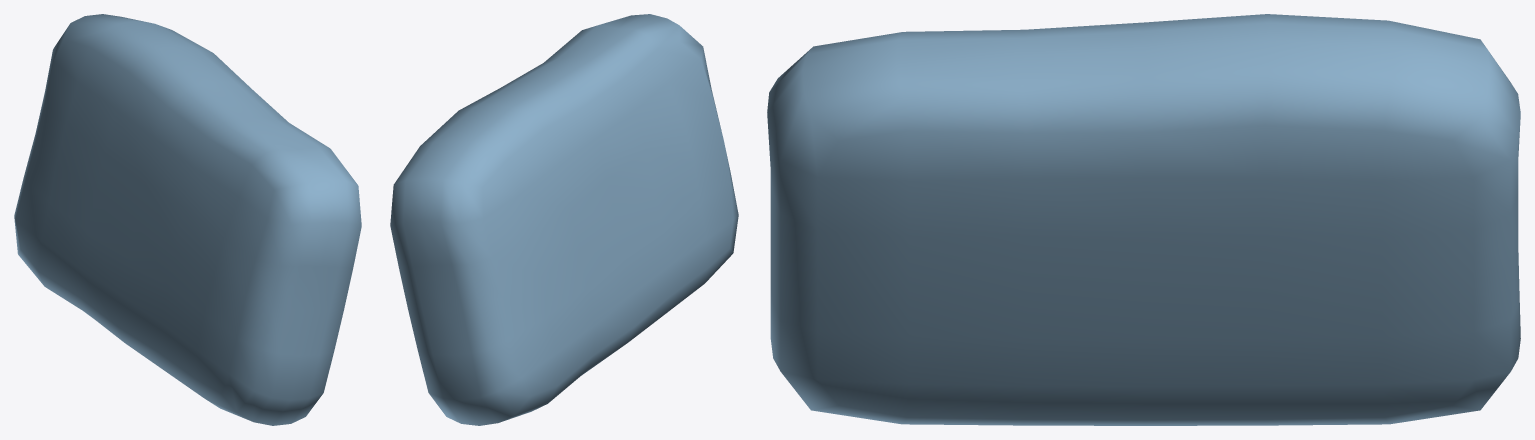
Rendered from Pillow_03.fbx.
3 renders of one model, left to right at view 1: azimuth 30°, elevation 25°; view 2: azimuth 150°, elevation 25°; view 3: azimuth 270°, elevation 25°, orthographic. The views are drawn at different scales.
Visible parts, largest first — view 1: Pillow_03; view 2: Pillow_03; view 3: Pillow_03.
Boxes of the visible parts, left/top/right/bottom form: Pillow_03: left=14, top=14, right=361, bottom=425; Pillow_03: left=390, top=14, right=738, bottom=425; Pillow_03: left=767, top=14, right=1520, bottom=425.
Size of the model in its own units: 42.07 by 74.21 by 124.
